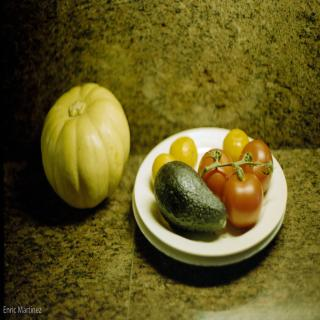tomato: (222, 162, 263, 226), (237, 138, 273, 193), (197, 147, 235, 195)
